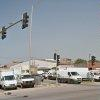Traffic light: (3, 13, 39, 44)
